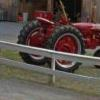Tractor: (16, 3, 100, 75)
